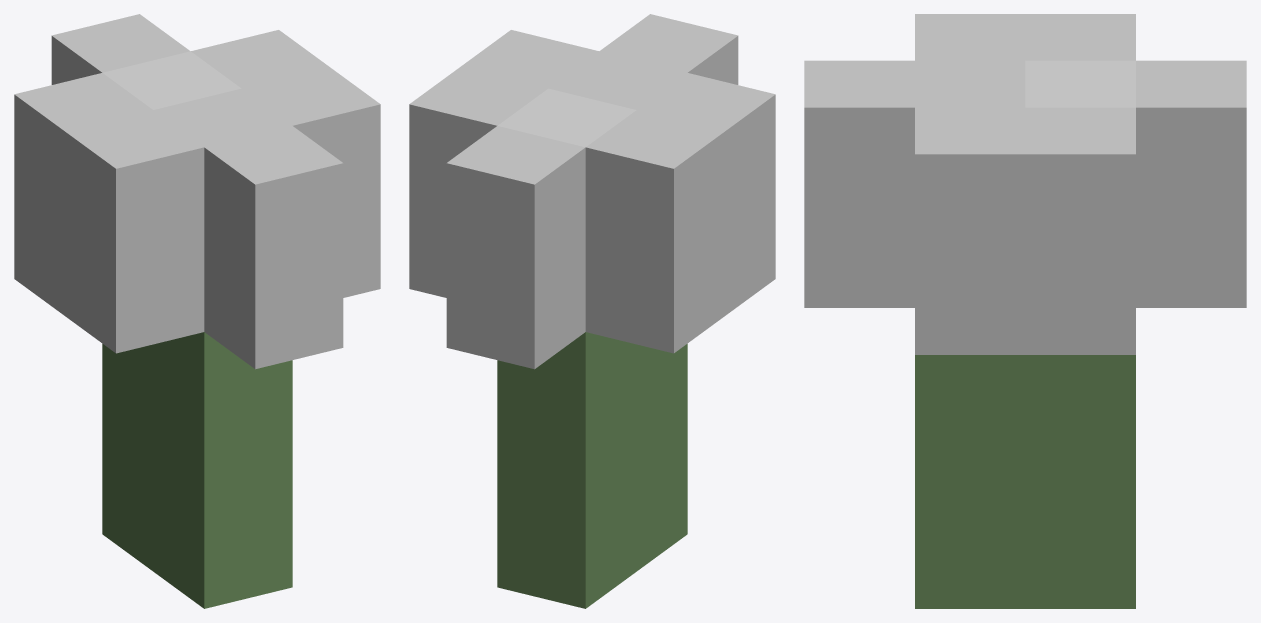
Rendered from edelweiss_01.glb.
3 renders of one model, left to right at view 1: azimuth 30°, elevation 25°; view 2: azimuth 150°, elevation 25°; view 3: azimuth 270°, elevation 25°, orthographic. The views are drawn at different scales.
Parts seen in each view (by area): view 1: edelweiss_01; view 2: edelweiss_01; view 3: edelweiss_01.
Boxes of the visible parts, box(x1,y1,x2,y2) form: edelweiss_01: box(14, 14, 380, 608); edelweiss_01: box(409, 14, 775, 608); edelweiss_01: box(804, 14, 1246, 608).
Bounding box in the file's own units: 0.3 × 0.5 × 0.4.
